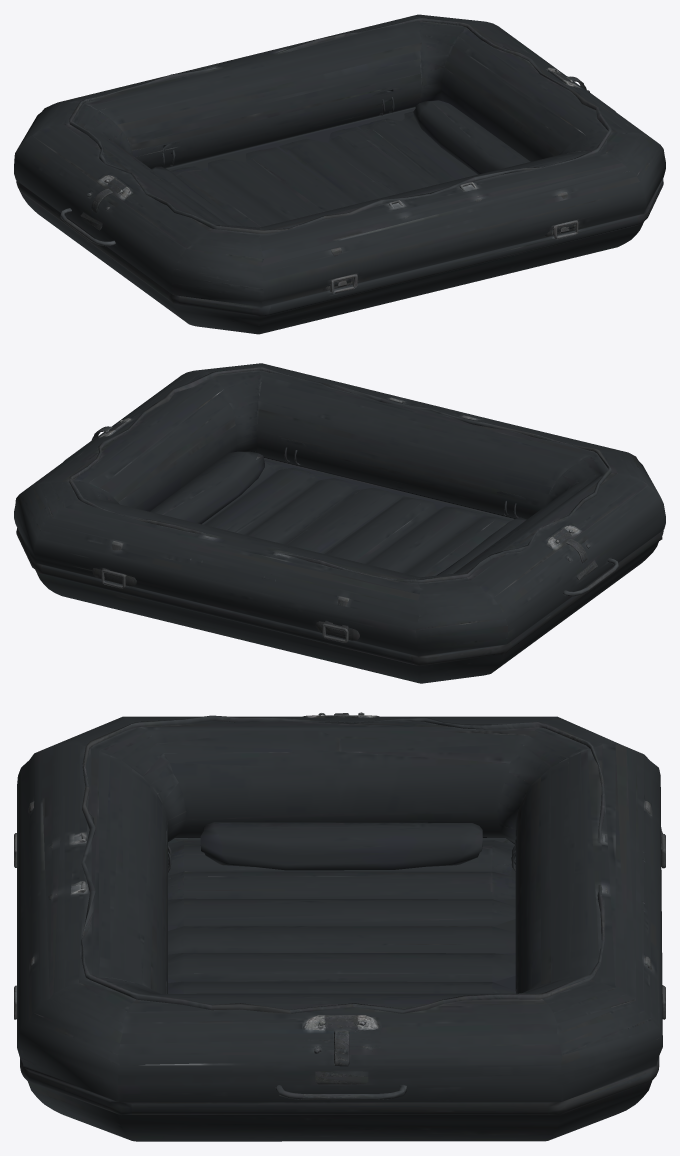
The model's file is raft.glb.
The picture shows the model from 3 angles, top to bottom: view 1: azimuth 30°, elevation 25°; view 2: azimuth 150°, elevation 25°; view 3: azimuth 270°, elevation 25°; orthographic projection. The views are drawn at different scales.
Size of the model in its own units: 2.6 by 0.4704 by 1.99.
Materials: 1 (1 with a texture image).
